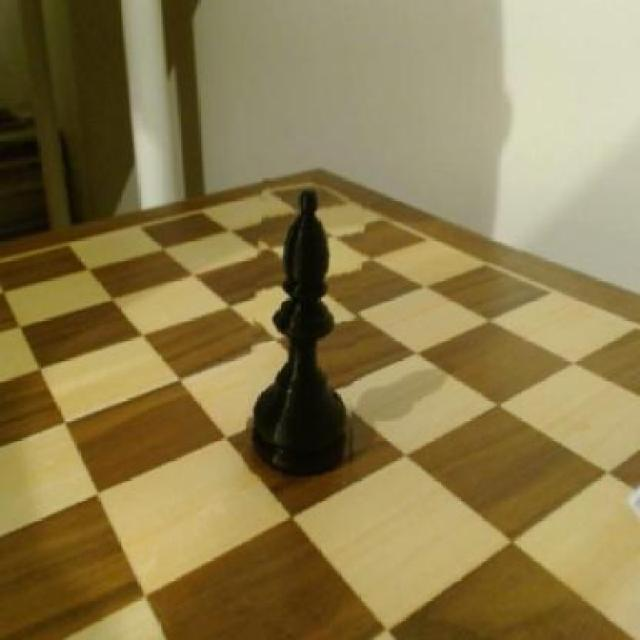bishop: (248, 183, 362, 485)
